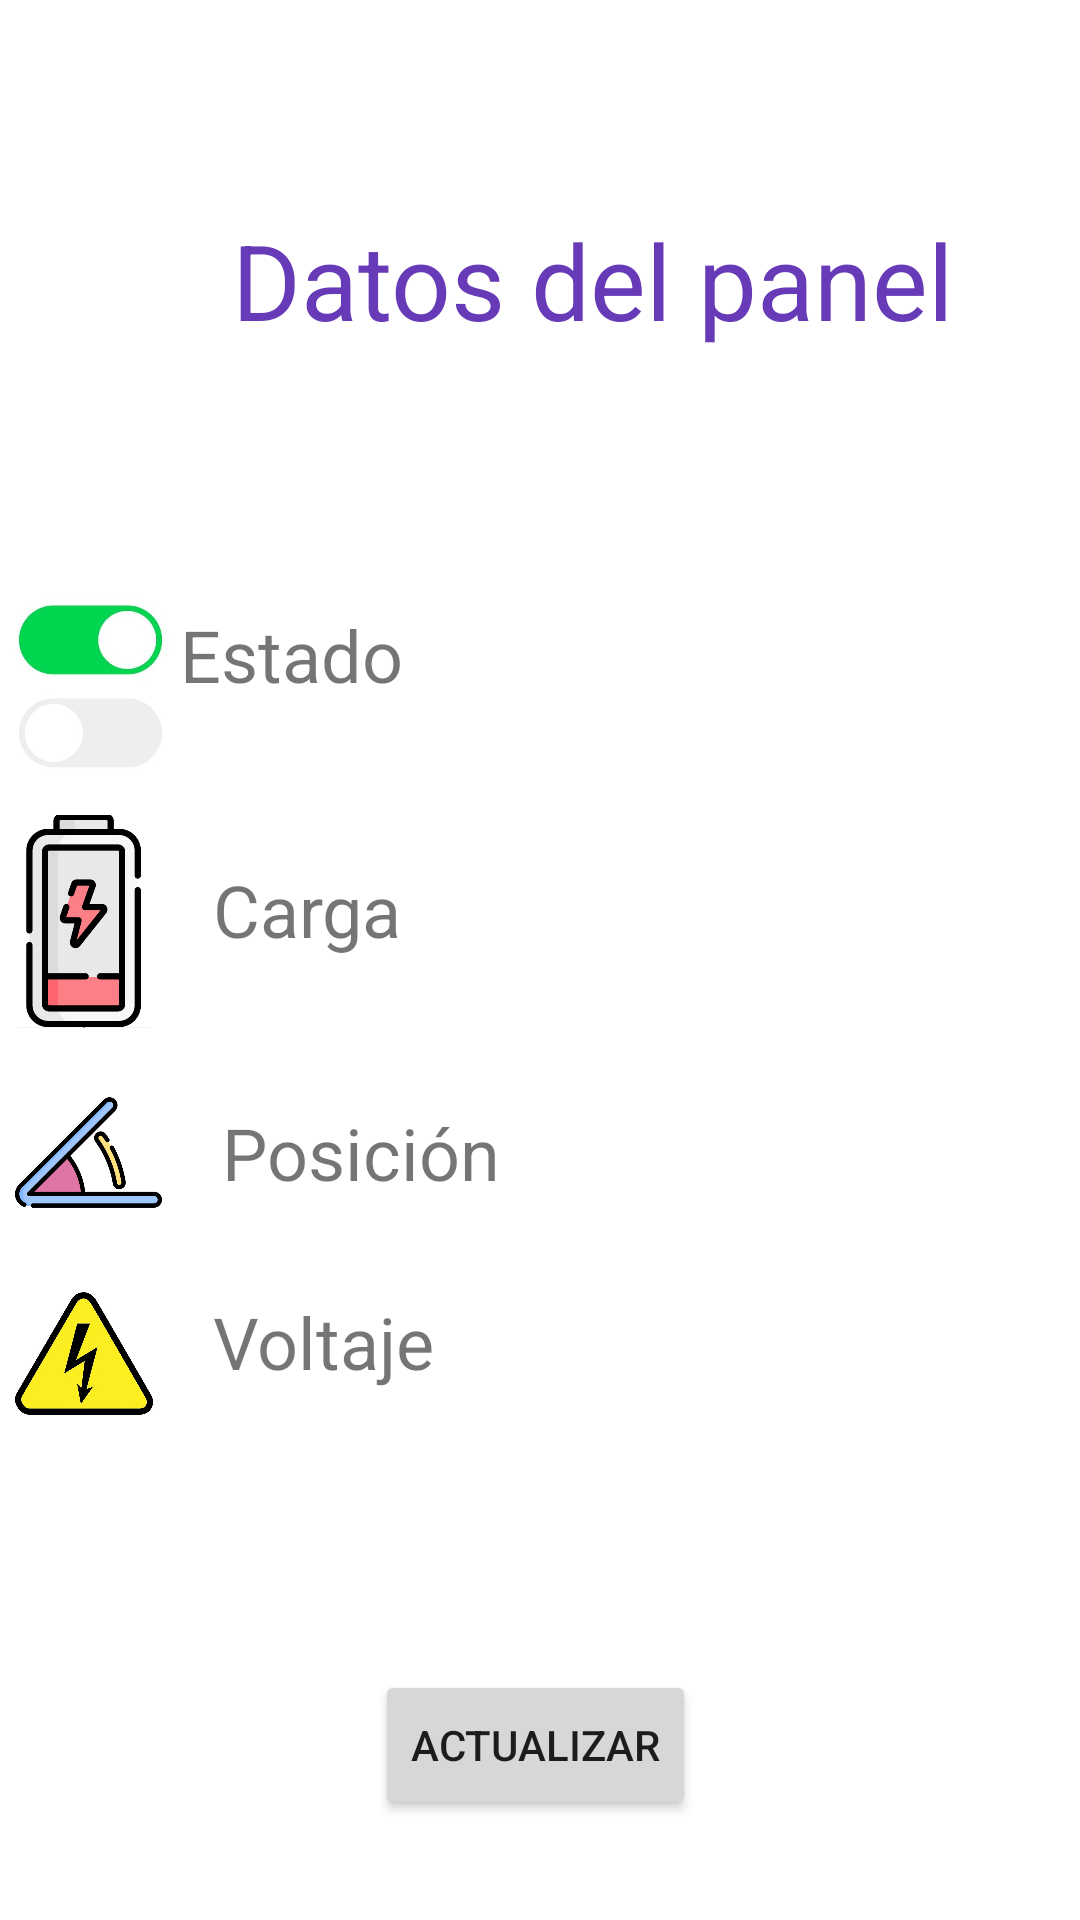

Locate icon controls on the screen. Image size 1080w x 1920h, boxes as Rect(x1, y1, x2, y2).
angle: Rect(15, 1097, 162, 1208)
batery: Rect(26, 815, 141, 1028)
onoff: Rect(18, 605, 163, 675)
